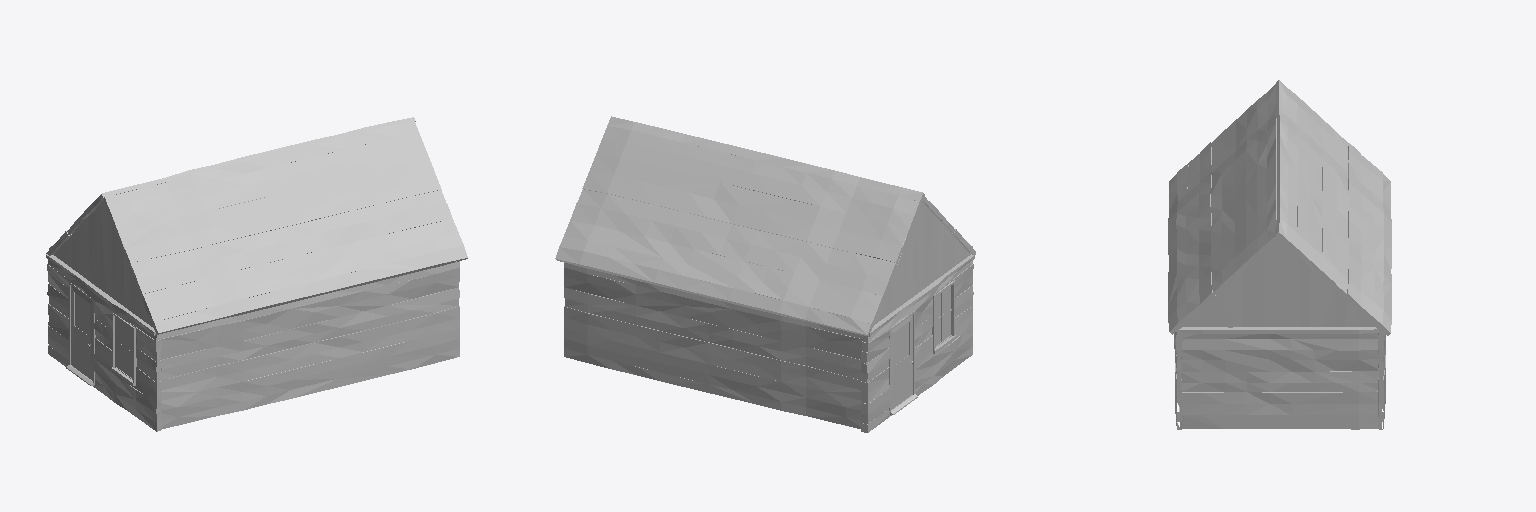
Rendered from Building01_LOD1.obj.
3 renders of one model, left to right at view 1: azimuth 30°, elevation 25°; view 2: azimuth 150°, elevation 25°; view 3: azimuth 270°, elevation 25°, orthographic.
Parts seen in each view (by area): view 1: WildWest_Building01_Roof._WildWest_Building01_Roof, WildWest_Building01_Walls, WildWest_Building01_Door, WildWest_Building01_Window; view 2: WildWest_Building01_Roof._WildWest_Building01_Roof, WildWest_Building01_Walls, WildWest_Building01_Door, WildWest_Building01_Window; view 3: WildWest_Building01_Roof._WildWest_Building01_Roof, WildWest_Building01_Walls.
Boxes of the visible parts, x1,y1,x2,y2 form: WildWest_Building01_Roof._WildWest_Building01_Roof: [46, 117, 467, 334]; WildWest_Building01_Walls: [46, 254, 459, 431]; WildWest_Building01_Door: [71, 286, 92, 380]; WildWest_Building01_Window: [116, 318, 132, 378]; WildWest_Building01_Roof._WildWest_Building01_Roof: [555, 116, 975, 336]; WildWest_Building01_Walls: [564, 254, 974, 432]; WildWest_Building01_Door: [891, 315, 912, 409]; WildWest_Building01_Window: [935, 286, 950, 346]; WildWest_Building01_Roof._WildWest_Building01_Roof: [1168, 80, 1391, 335]; WildWest_Building01_Walls: [1174, 327, 1385, 429].
Size of the model in its own units: 9.37 by 5.8 by 5.77.